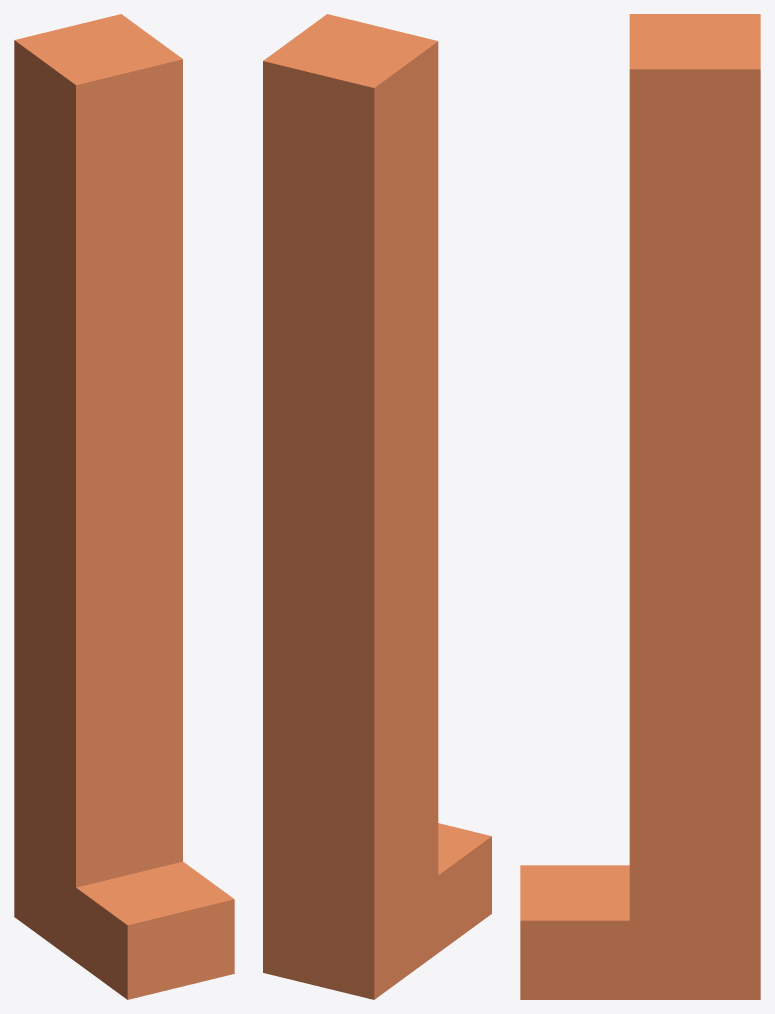
Rendered from humanoid-6.obj.
The picture shows the model from 3 angles, left to right: view 1: azimuth 30°, elevation 25°; view 2: azimuth 150°, elevation 25°; view 3: azimuth 270°, elevation 25°; orthographic projection. The views are drawn at different scales.
Visible parts, largest first — view 1: humanoid-6; view 2: humanoid-6; view 3: humanoid-6.
Boxes of the visible parts, x1=… form: humanoid-6: x1=14, y1=14, x2=234, y2=999; humanoid-6: x1=263, y1=14, x2=491, y2=999; humanoid-6: x1=520, y1=14, x2=760, y2=999.
Bounding box in the file's own units: 6 × 47 × 11.
Materials: 1 (1 with a texture image).
